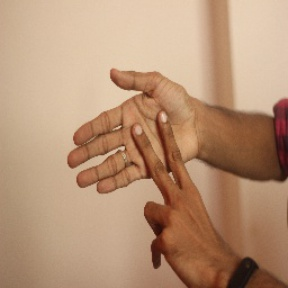N: (64, 62, 218, 249)
